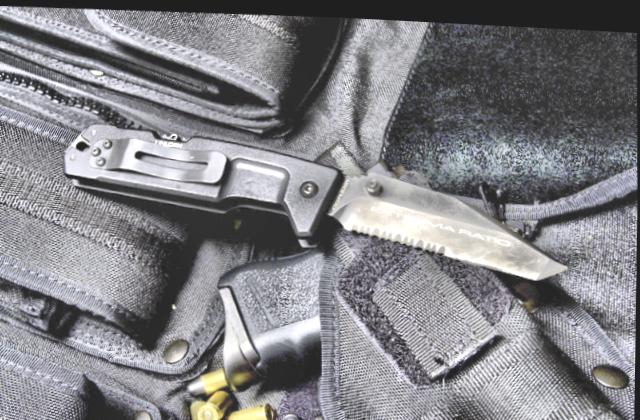knife: (317, 151, 590, 285)
